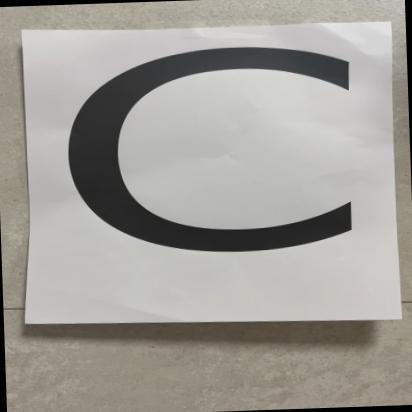seat: (22, 20, 398, 331)
